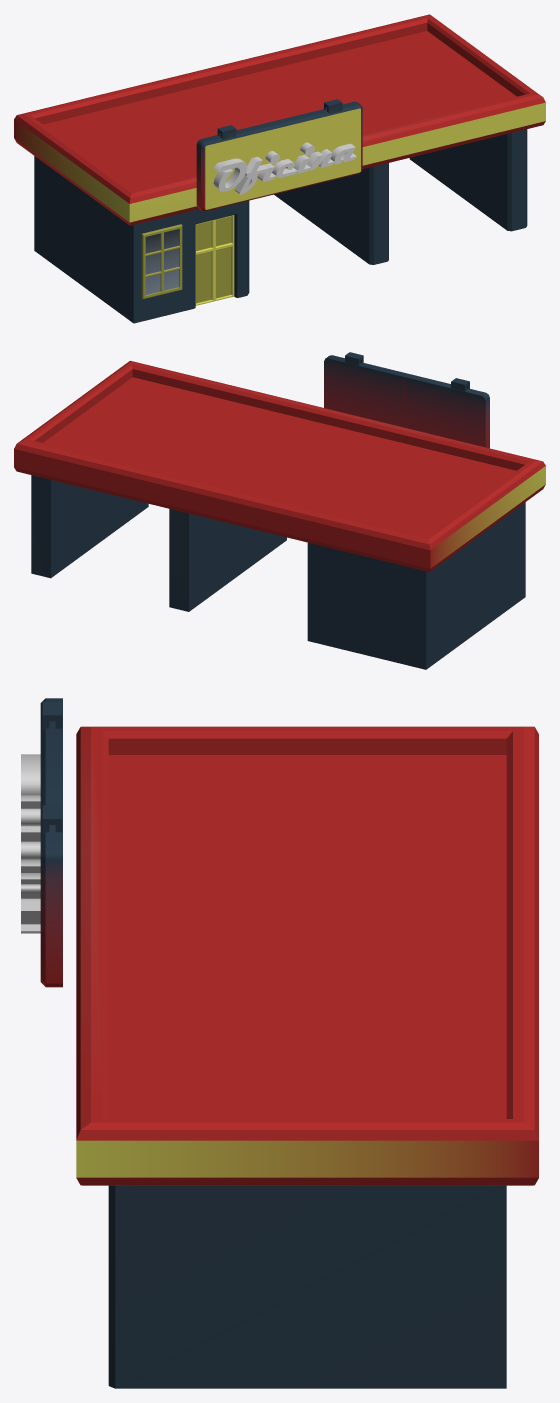
Rendered from Oficina_M.fbx.
The picture shows the model from 3 angles, top to bottom: view 1: azimuth 30°, elevation 25°; view 2: azimuth 150°, elevation 25°; view 3: azimuth 270°, elevation 25°; orthographic projection. The views are drawn at different scales.
Visible parts, largest first — view 1: Oficina.M; view 2: Oficina.M; view 3: Oficina.M.
Boxes of the visible parts, <box> form: Oficina.M: <box>14,14,545,323</box>; Oficina.M: <box>14,352,545,669</box>; Oficina.M: <box>21,698,538,1388</box>.
Size of the model in its own units: 2106 by 899 by 1135.
